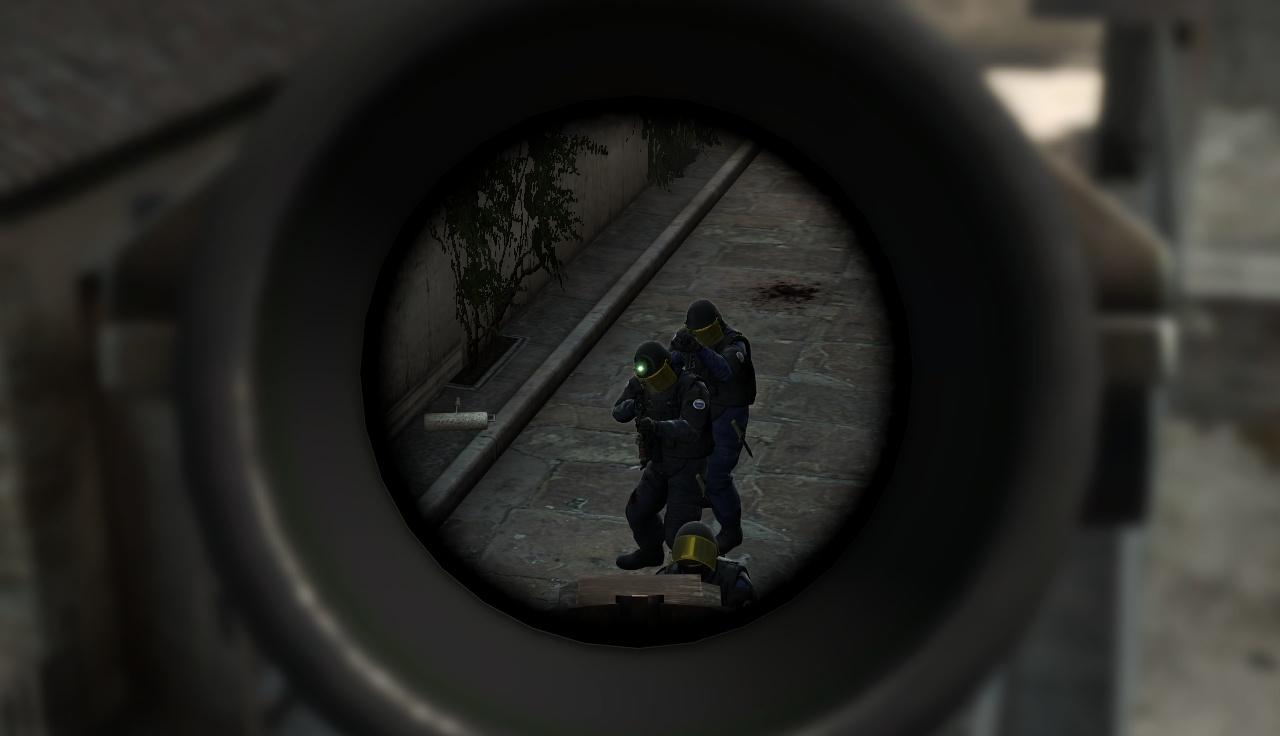ct: (621, 342, 698, 517), (694, 300, 750, 489), (672, 523, 716, 570)
cthead: (634, 343, 673, 390), (684, 300, 723, 346)
